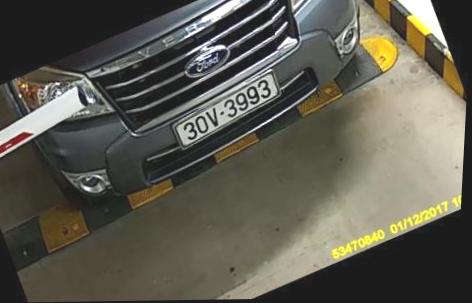License_Plate: (172, 76, 291, 150)
